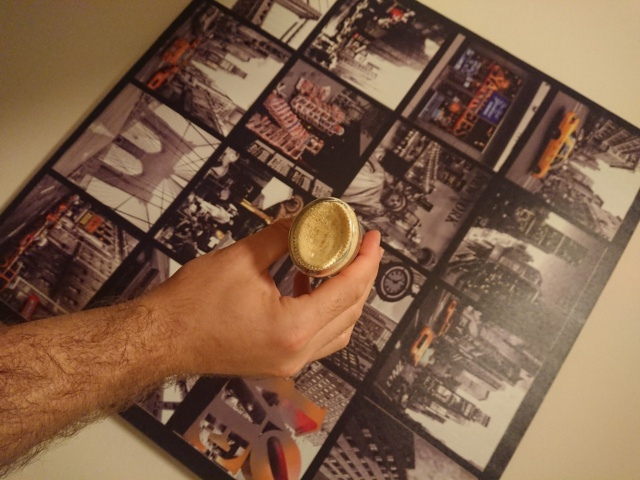Kotanyi Garlic Granules 70g: (286, 195, 365, 280)
